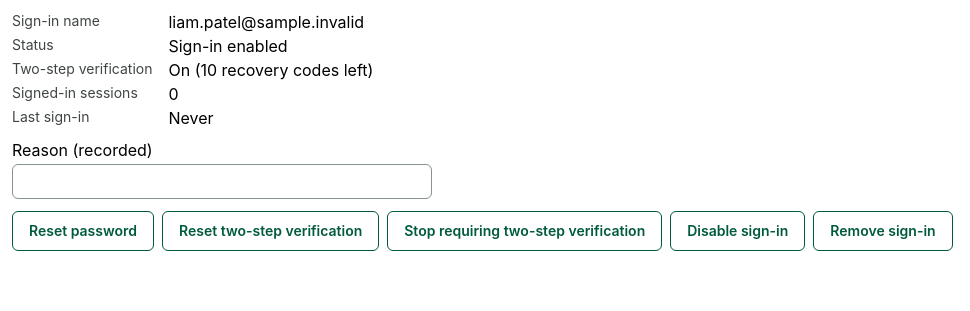
EmployeeLoginAccount action feedback › confirms a completed action
Type "testing" into the field at (222, 182), box [12,164,432,199]
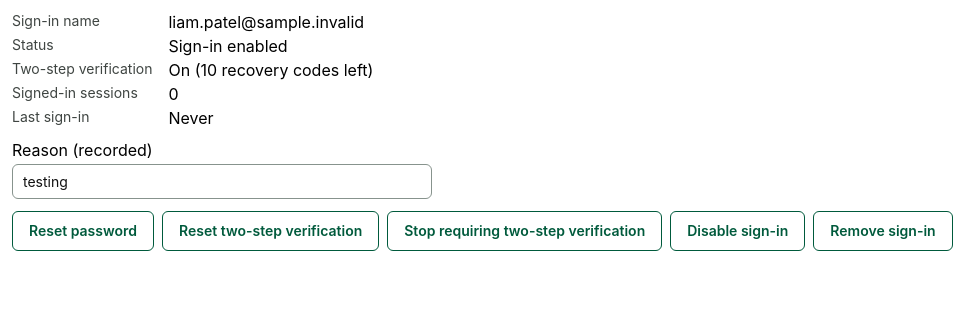
Click the button "Stop requiring two-step verification" at (525, 231), box [387,211,662,251]
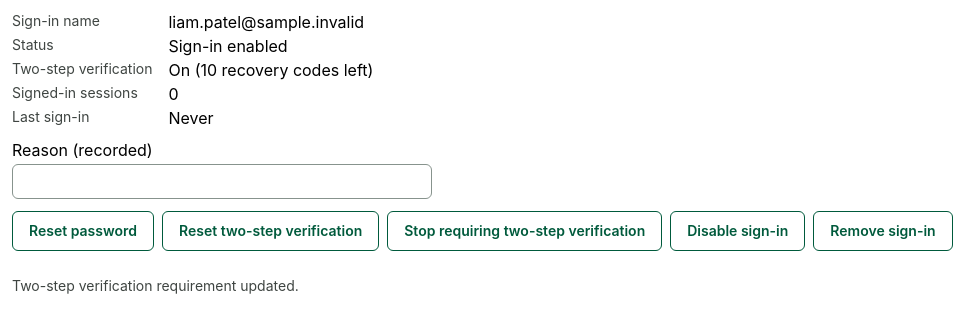
Expected: the message reads "Two-step verification requirement updated.", [12,277,299,294]
